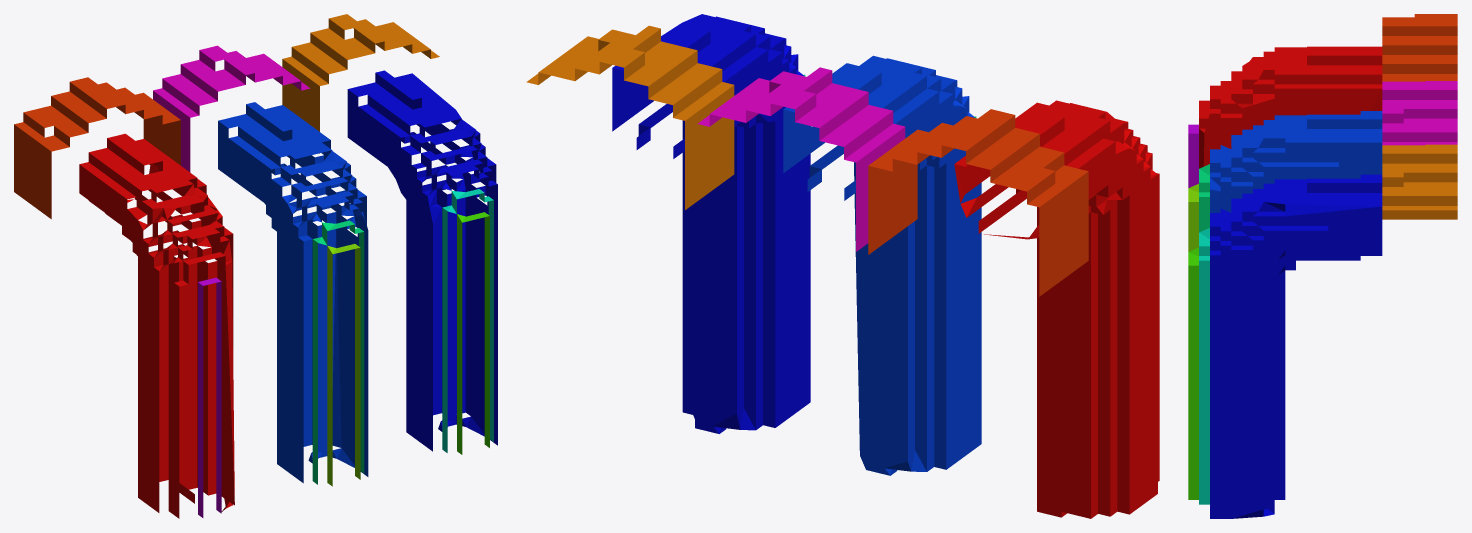
Rendered from cockpit_core_engine_back_pipes_2-2.fbx.
The picture shows the model from 3 angles, left to right: view 1: azimuth 30°, elevation 25°; view 2: azimuth 150°, elevation 25°; view 3: azimuth 270°, elevation 25°; orthographic projection. The views are drawn at different scales.
Visible parts, largest first — view 1: cockpit_core_engine_back_pipes; view 2: cockpit_core_engine_back_pipes; view 3: cockpit_core_engine_back_pipes.
Boxes of the visible parts, x1,y1,x2,y2 form: cockpit_core_engine_back_pipes: [14, 14, 497, 518]; cockpit_core_engine_back_pipes: [526, 14, 1159, 518]; cockpit_core_engine_back_pipes: [1188, 14, 1457, 518].
Bounding box in the file's own units: 363 × 311 × 216.
